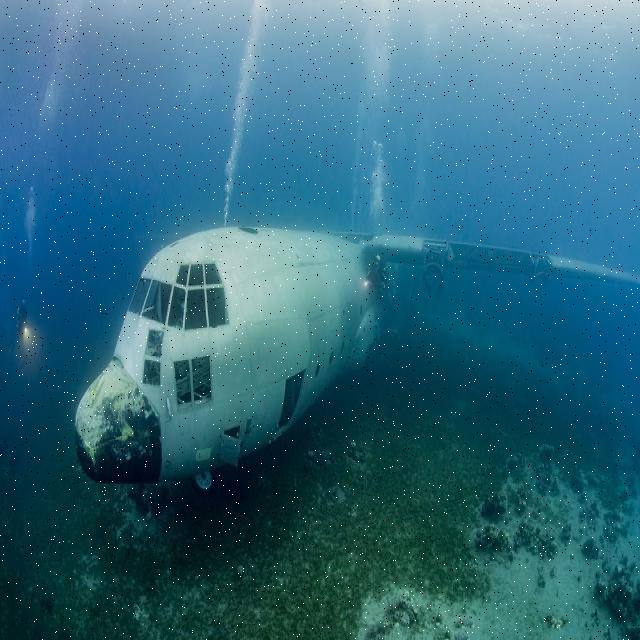wrecks-ruins: (75, 222, 639, 490)
